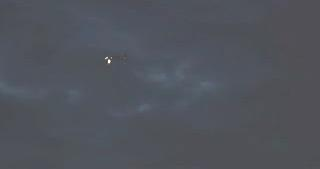Plane: (79, 44, 263, 131)
